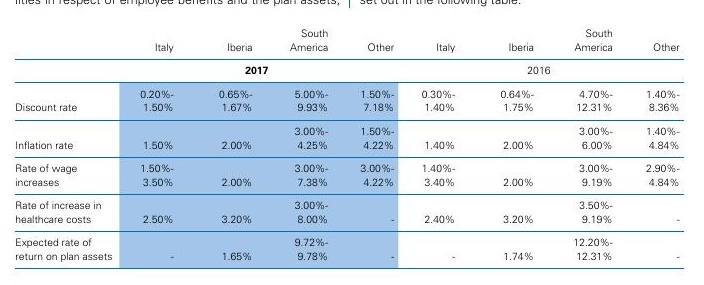table: (0, 0, 704, 285)
